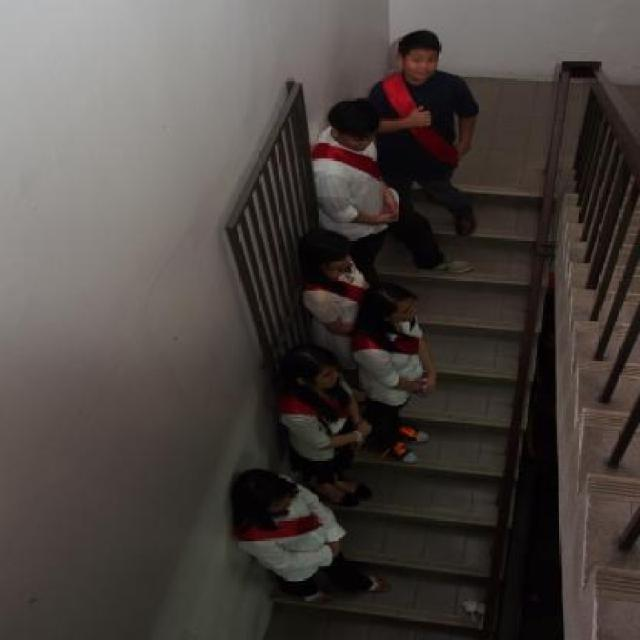stair: (256, 76, 640, 640)
